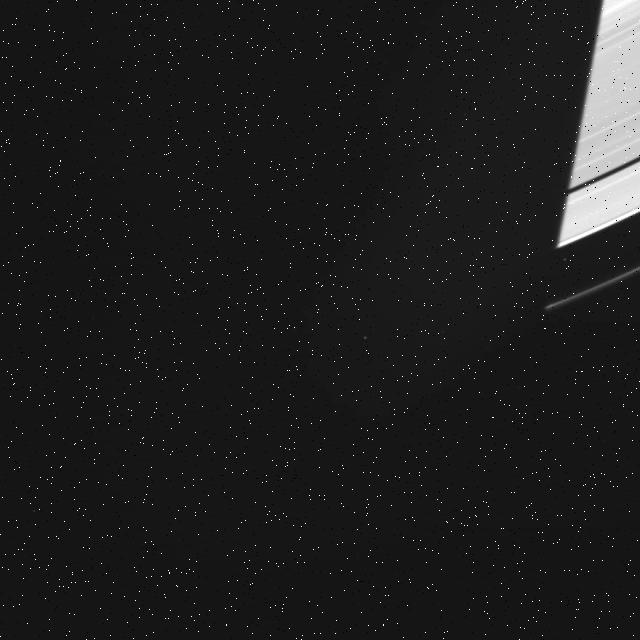Saturn: (541, 0, 640, 315)
